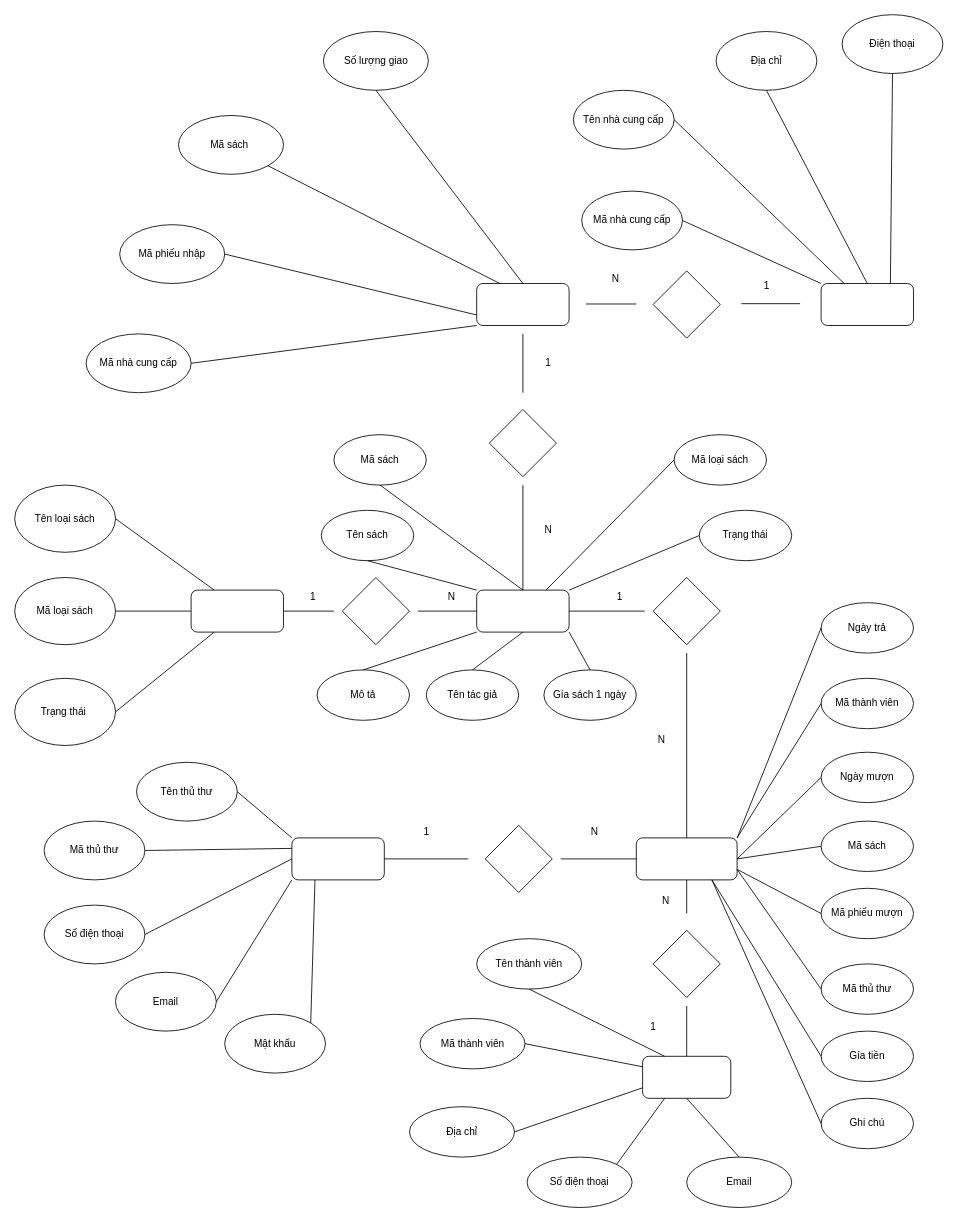
Some shapes in this 958 by 1222 pixel diagram are drawn without their labels. The shapes that lost their labels are listed below. From the top down, each one's centre as x and y in pixels, then its label:
At [522,304]: "Phiếu cung cấp sách".
At [867,304]: "Nhà cung cấp".
At [237,610]: "Loại sách".
At [522,610]: "Sách".
At [337,858]: "Thủ thư".
At [686,858]: "Phiếu mượn".
At [686,1076]: "Đọc giả".
